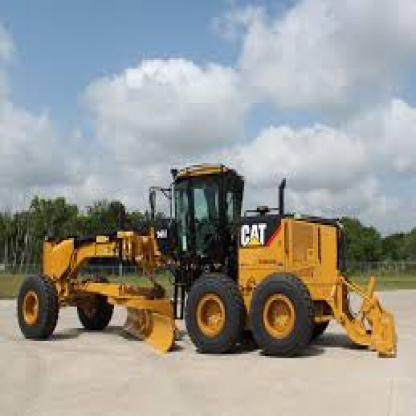bull_dozer/loader/grader: (20, 159, 398, 375)
